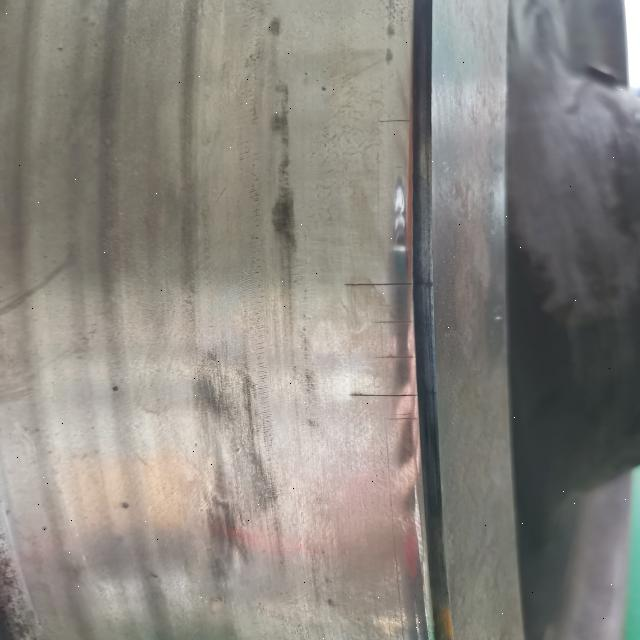hot crack: (340, 273, 424, 291), (340, 387, 434, 402), (367, 349, 435, 365), (361, 317, 428, 331)
